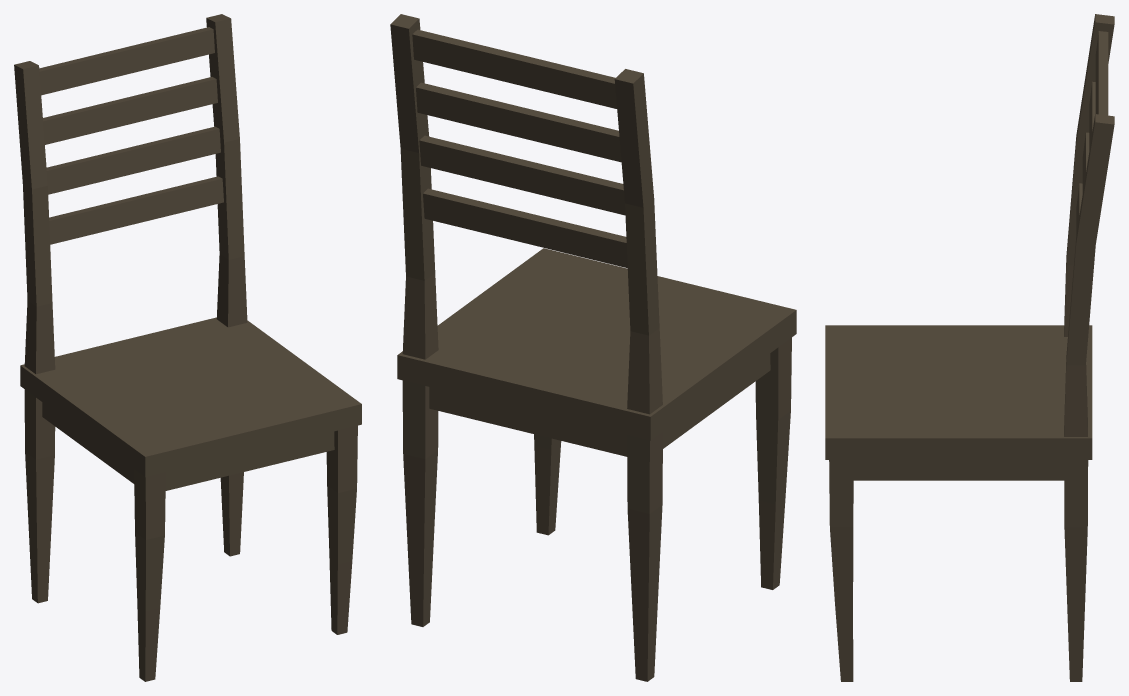
File: Chair_1.glb
3 views of the same model, side by side, from view 1: azimuth 30°, elevation 25°; view 2: azimuth 150°, elevation 25°; view 3: azimuth 270°, elevation 25° (orthographic). The views are drawn at different scales.
Parts seen in each view (by area): view 1: Chair_1; view 2: Chair_1; view 3: Chair_1.
Boxes of the visible parts, x1,y1,x2,y2 form: Chair_1: [14, 14, 361, 681]; Chair_1: [390, 14, 796, 681]; Chair_1: [825, 14, 1114, 681].
Size of the model in its own units: 0.3725 by 0.8644 by 0.4036.
Materials: 1 (1 with a texture image).
